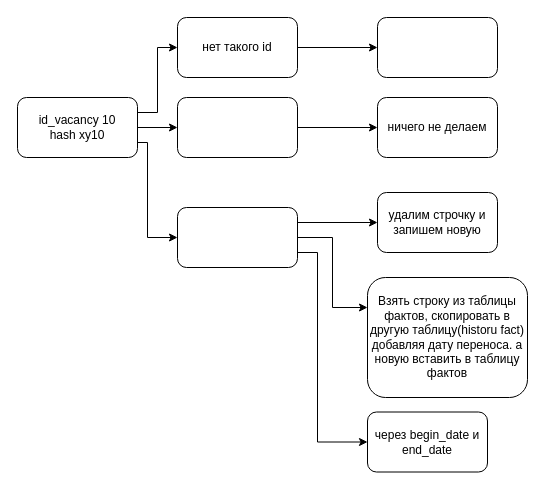
Some shapes in this 545 by 490 pixel diagram are drawn without their labels. Here are the shapes that lost their labels. From the top down, the box of each, then its label:
(376, 16, 498, 78): записываем строку в фактовую таблицу
(176, 96, 298, 158): id есть хеши совпадают
(176, 206, 298, 268): id есть, но хеши не совпадают
